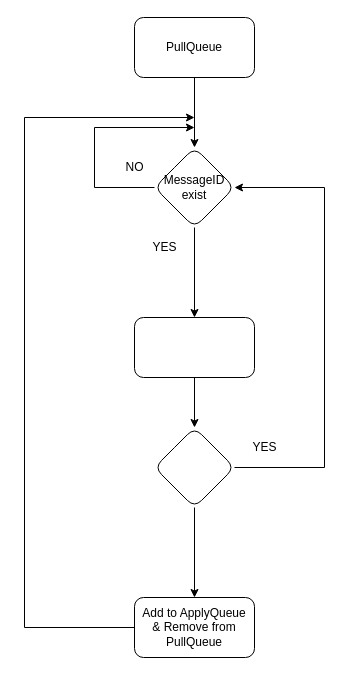
Image size: 350x675. Some labels were removed from this diagram. The centre of each missing label's shape, as x and y in pixels:
Fetch message: point (194, 347)
If error: point (194, 467)
